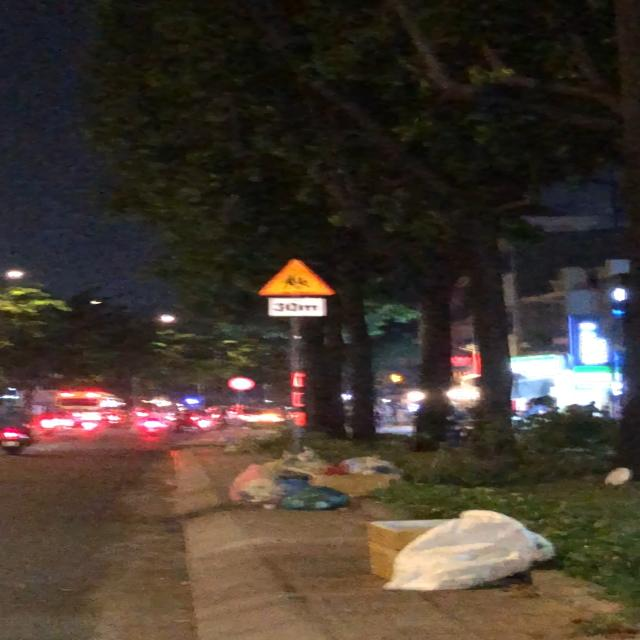Bien bao tre em: (252, 256, 344, 298)
